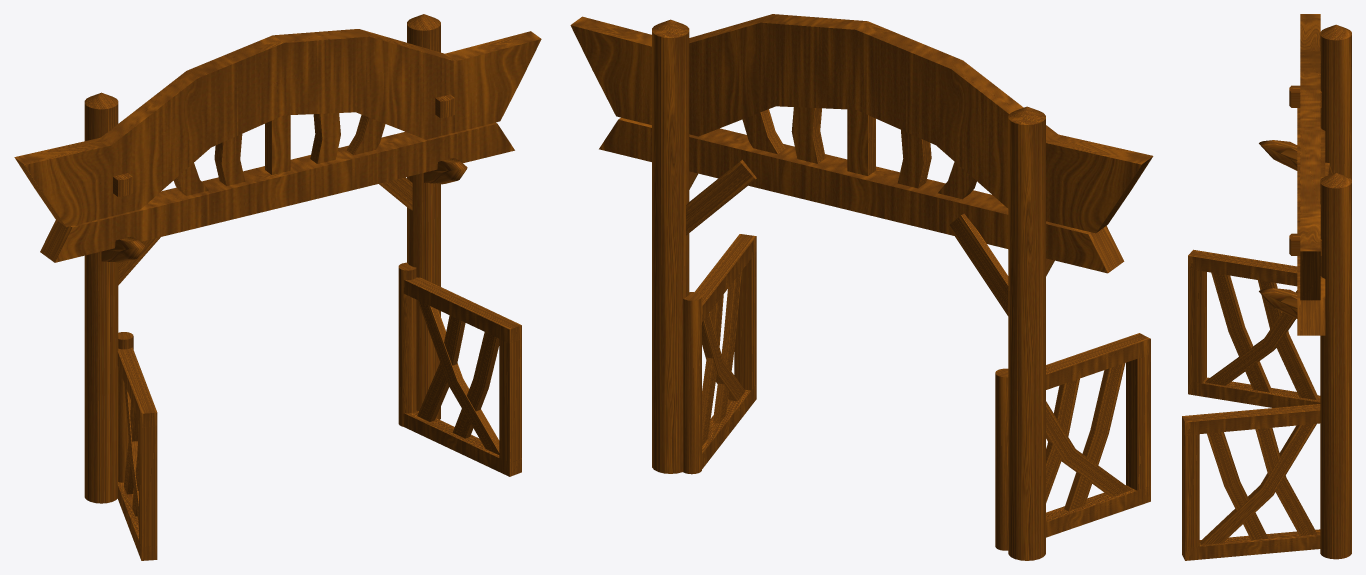
The model's file is Gate.FBX.
3 renders of one model, left to right at view 1: azimuth 30°, elevation 25°; view 2: azimuth 150°, elevation 25°; view 3: azimuth 270°, elevation 25°, orthographic. The views are drawn at different scales.
Visible parts, largest first — view 1: Box001, Box011, Box010; view 2: Box001, Box010, Box011; view 3: Box001, Box011, Box010.
Part boxes in pixels (bbox=[...]): Box001: bbox=[14, 14, 541, 503]; Box011: bbox=[398, 262, 521, 476]; Box010: bbox=[117, 332, 157, 560]; Box001: bbox=[570, 14, 1153, 560]; Box010: bbox=[995, 333, 1150, 550]; Box011: bbox=[683, 234, 756, 474]; Box001: bbox=[1259, 14, 1351, 559]; Box011: bbox=[1182, 404, 1320, 560]; Box010: bbox=[1188, 249, 1320, 407].
Bounding box in the file's own units: 186 × 147 × 56.24.
Materials: 3 (3 with a texture image).
